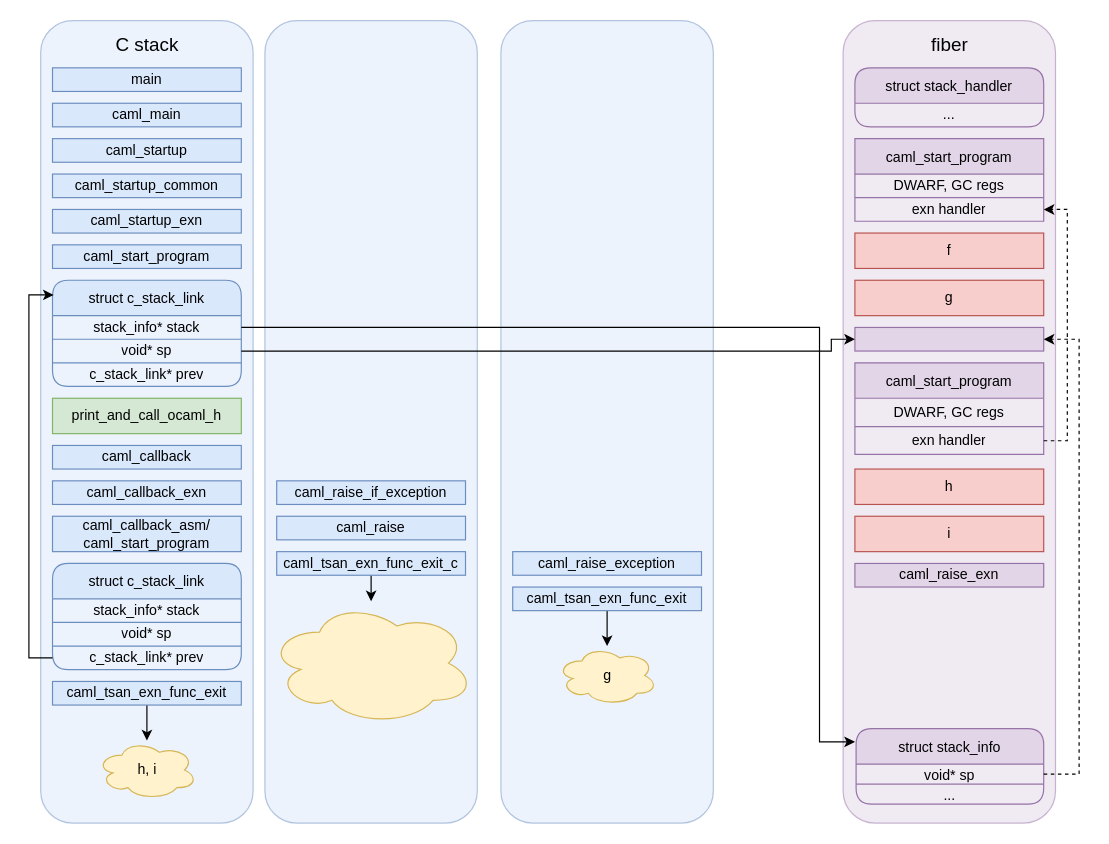
This 1109x844 diagram has some shape labels left out. Each missing label, with the centre of its shape:
caml_c_call: point 949,338
tsan_func_exit_c caml_raise caml_callback print_and_call_ocaml_h: point 370,662
